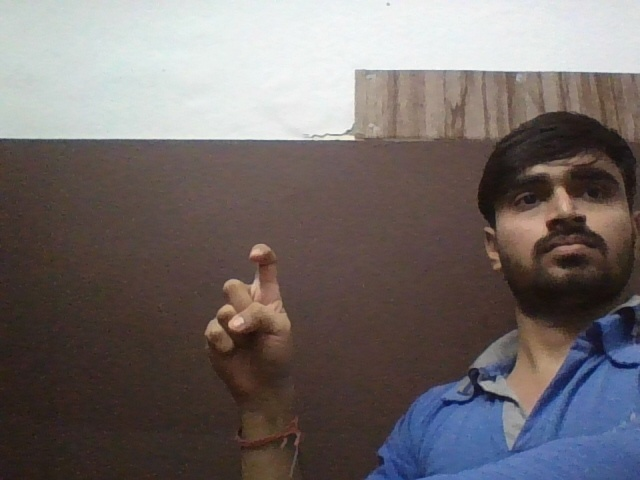X: (195, 242, 307, 394)
